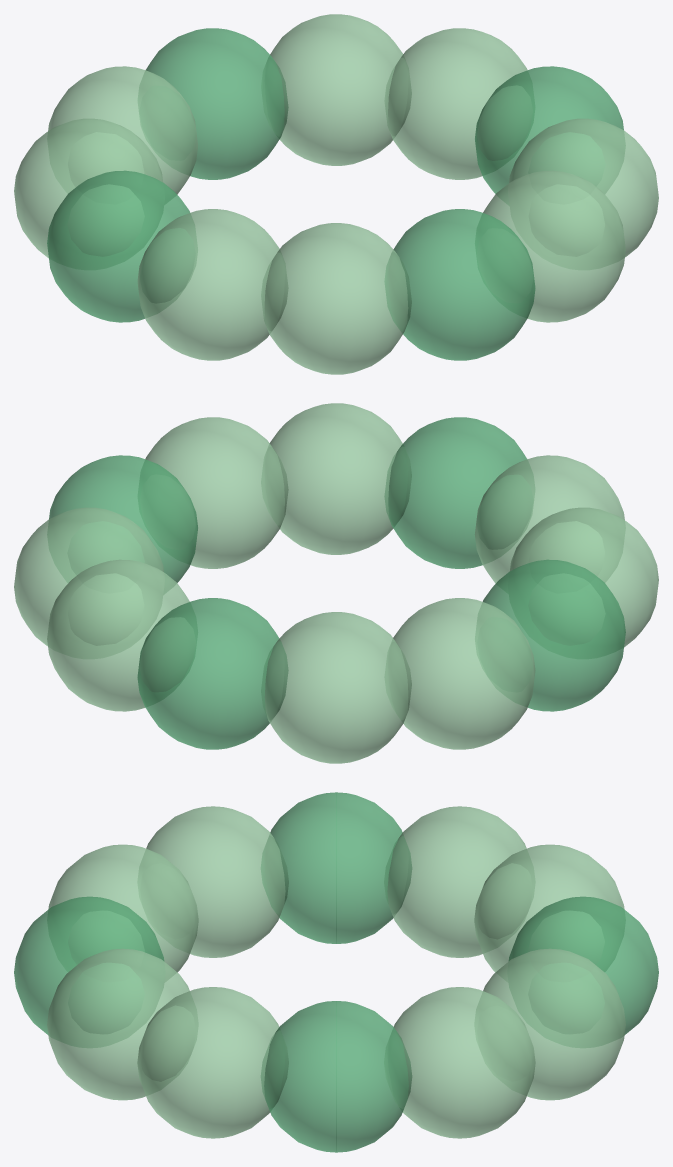
The model's file is bracelet.glb.
The picture shows the model from 3 angles, top to bottom: view 1: azimuth 30°, elevation 25°; view 2: azimuth 150°, elevation 25°; view 3: azimuth 270°, elevation 25°; orthographic projection.
Visible parts, largest first — view 1: bracelet; view 2: bracelet; view 3: bracelet.
Part boxes in pixels (left/top/right/bottom): bracelet: left=14, top=14, right=658, bottom=374; bracelet: left=14, top=403, right=658, bottom=763; bracelet: left=14, top=792, right=658, bottom=1152.
Size of the model in its own units: 1.36 by 0.32 by 1.36.
